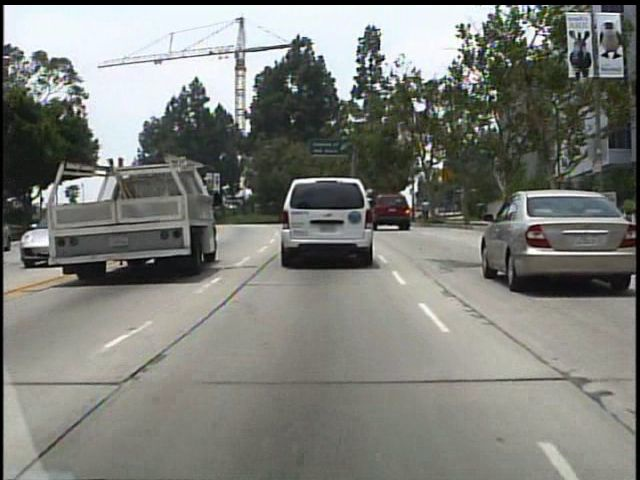person: (420, 194, 434, 226)
